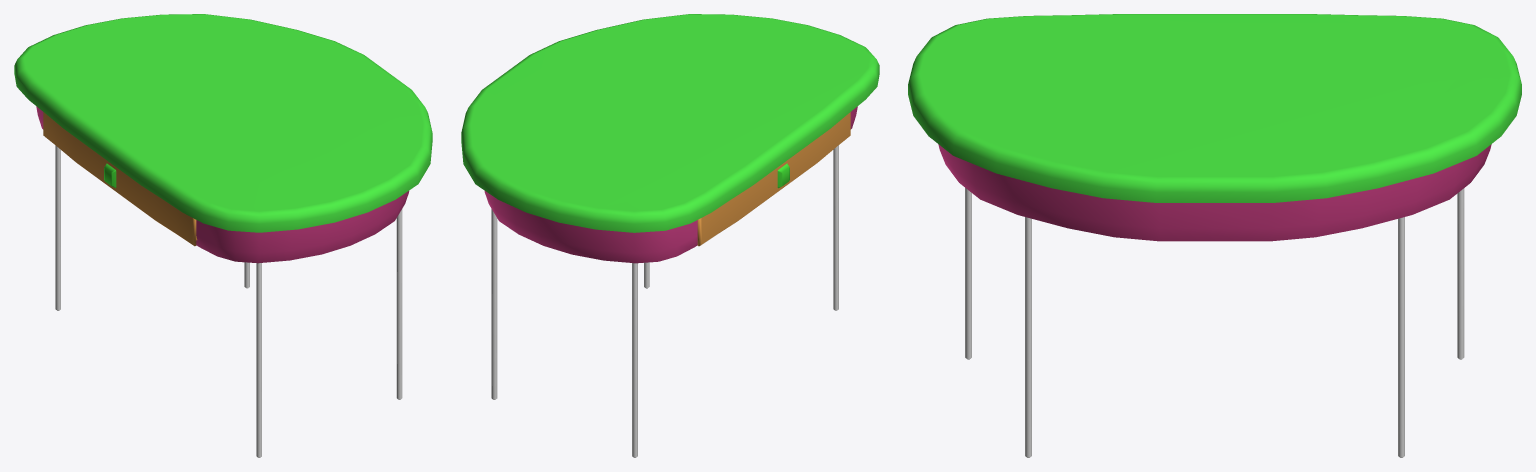
Rendered from desk.fbx.
3 renders of one model, left to right at view 1: azimuth 30°, elevation 25°; view 2: azimuth 150°, elevation 25°; view 3: azimuth 270°, elevation 25°, orthographic. The views are drawn at different scales.
Visible parts, largest first — view 1: desk, desk_drawer; view 2: desk, desk_drawer; view 3: desk.
Part boxes in pixels (bbox=[...]): desk: bbox=[14, 14, 432, 457]; desk_drawer: bbox=[43, 112, 197, 246]; desk: bbox=[461, 14, 879, 457]; desk_drawer: bbox=[697, 112, 850, 246]; desk: bbox=[908, 14, 1521, 457].
Size of the model in its own units: 0.8631 by 0.738 by 1.3.
